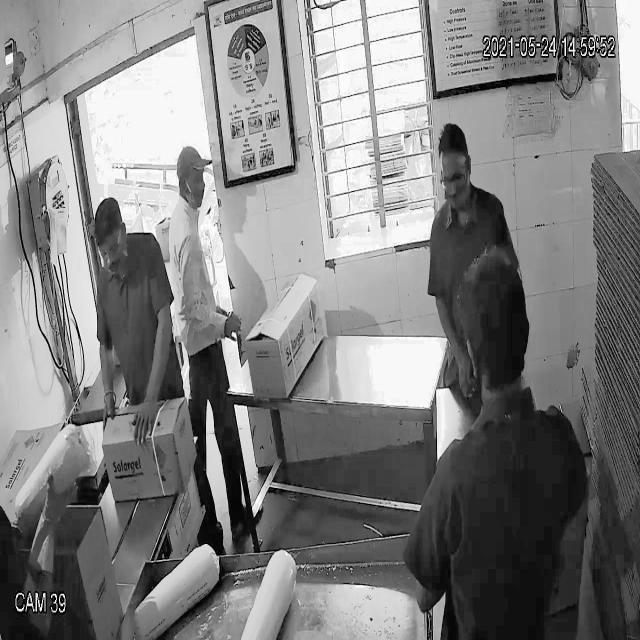glasses: (95, 230, 127, 262), (439, 165, 471, 193)
